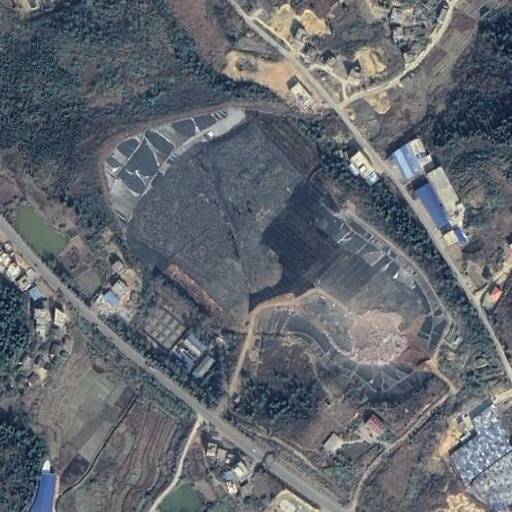lf: (100, 105, 453, 392)
